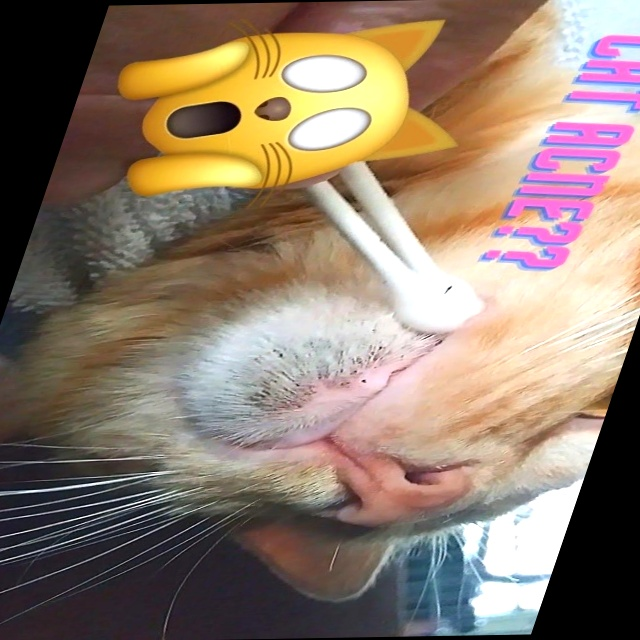acne: (206, 335, 399, 421)
